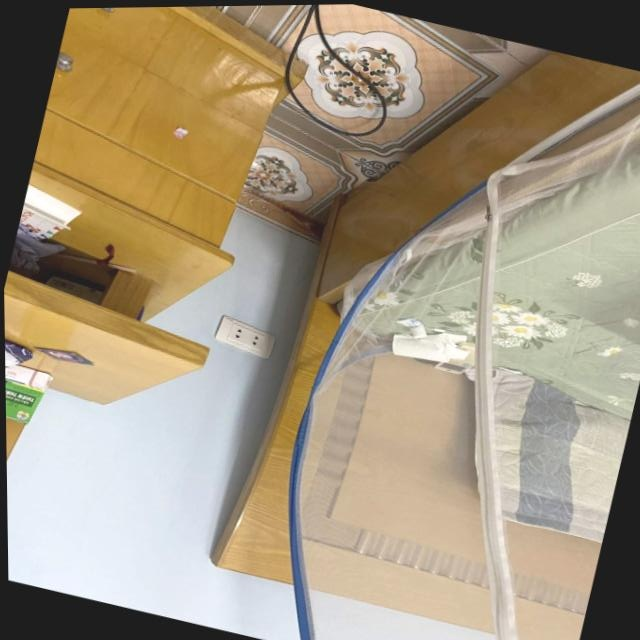outlet: (213, 311, 279, 360)
